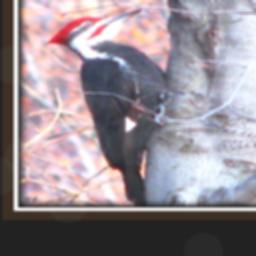Woodpecker: (45, 9, 186, 207)
